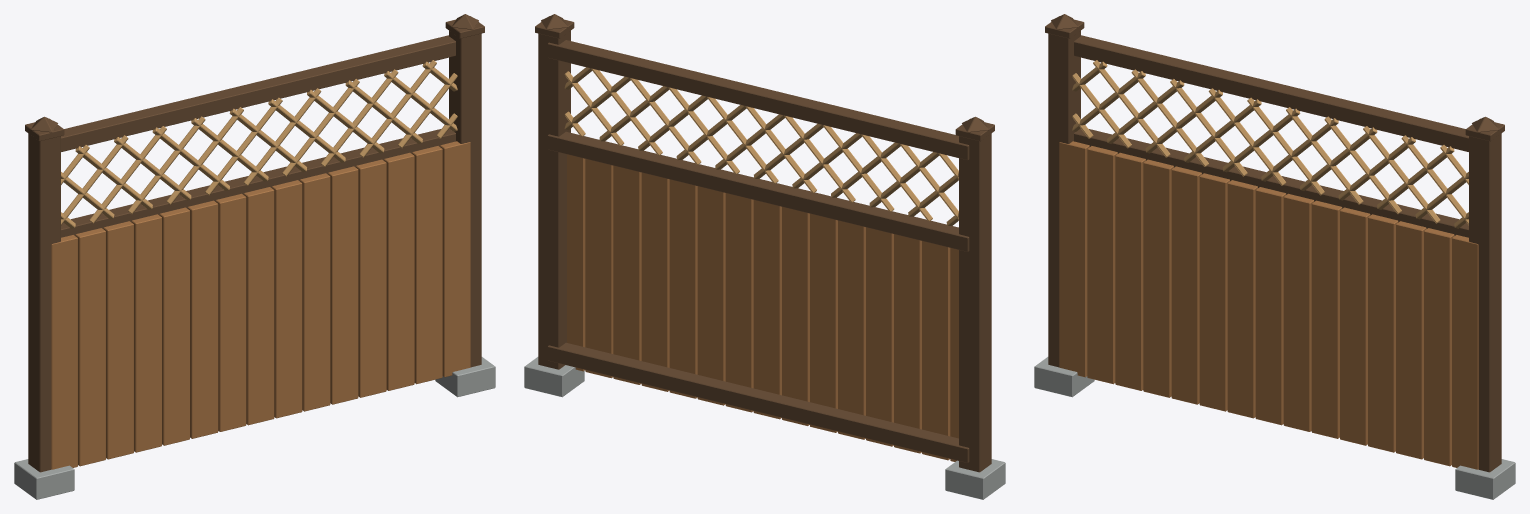
File: b19_cedar_lattice_top_fence.glb
3 renders of one model, left to right at view 1: azimuth 30°, elevation 25°; view 2: azimuth 150°, elevation 25°; view 3: azimuth 330°, elevation 25°, orthographic.
Parts seen in each view (by area): view 1: b19_cedar_lattice_top_fence; view 2: b19_cedar_lattice_top_fence; view 3: b19_cedar_lattice_top_fence.
Boxes of the visible parts, left/top/right/bottom form: b19_cedar_lattice_top_fence: left=14, top=14, right=495, bottom=499; b19_cedar_lattice_top_fence: left=524, top=14, right=1005, bottom=499; b19_cedar_lattice_top_fence: left=1034, top=14, right=1515, bottom=499.
Bounding box in the file's own units: 2.62 × 2.02 × 0.22.
